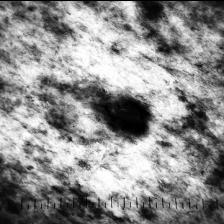Potentially Malignant Skin Tumors: (31, 66, 166, 146)
